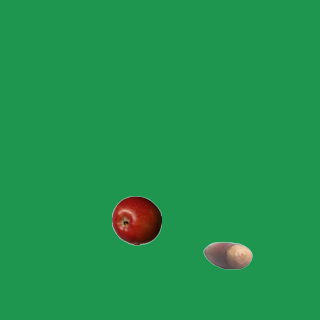Apple Braeburn: (111, 195, 161, 245)
Hazelnut: (202, 230, 252, 280)
